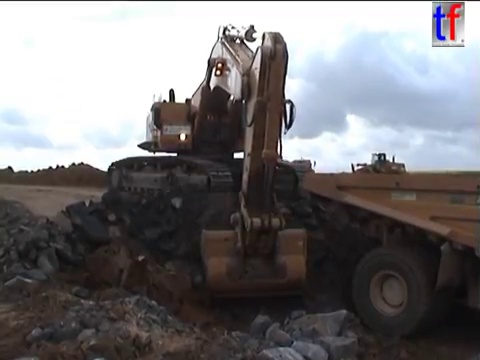excavator: (104, 20, 319, 300)
truck: (298, 168, 480, 342)
wheel loader: (338, 151, 409, 185)
